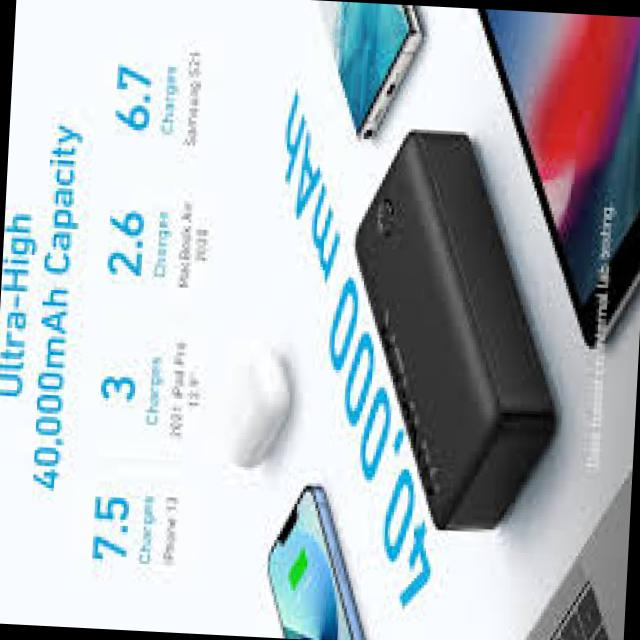power_bank: (337, 122, 576, 537)
